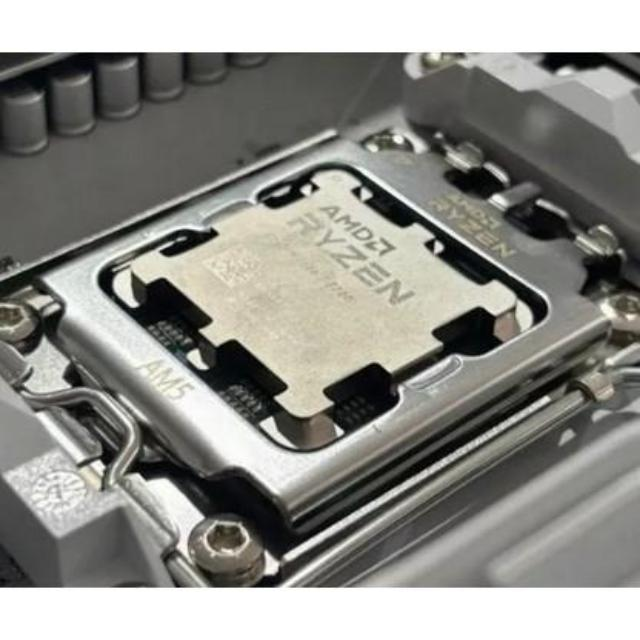CPU: (113, 168, 525, 436)
